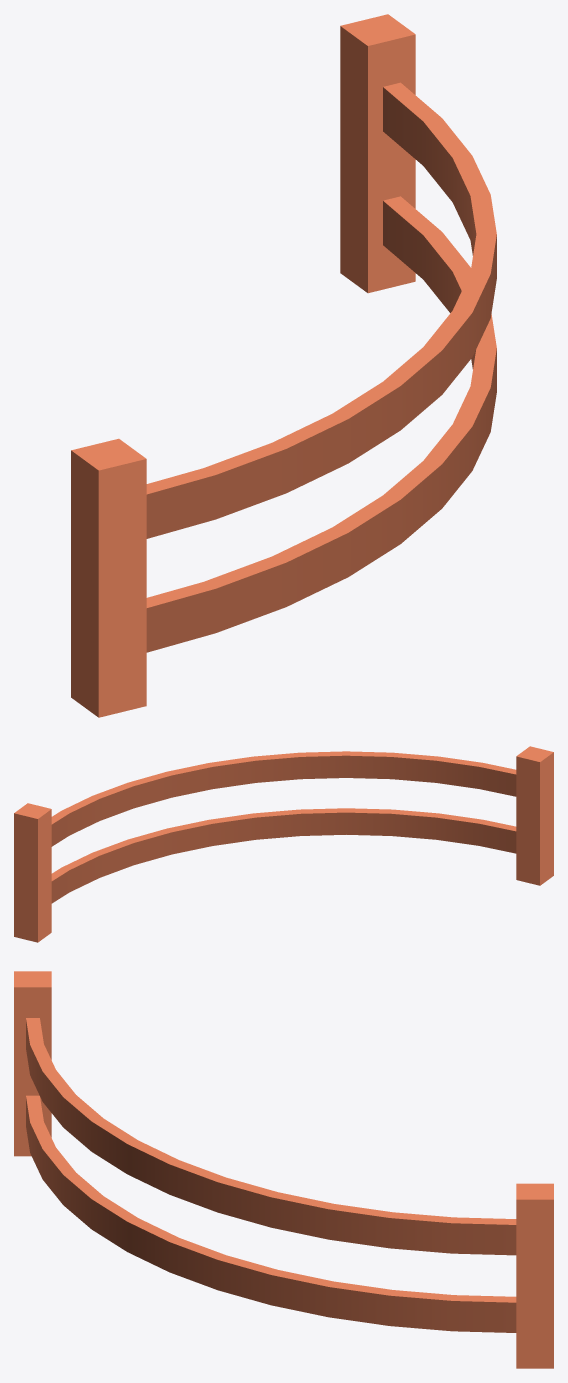
The model's file is fence_bend.dae.
3 views of the same model, one above another, from view 1: azimuth 30°, elevation 25°; view 2: azimuth 150°, elevation 25°; view 3: azimuth 270°, elevation 25° (orthographic). The views are drawn at different scales.
Parts seen in each view (by area): view 1: fence_bend; view 2: fence_bend; view 3: fence_bend.
Boxes of the visible parts, <box> form: fence_bend: <box>71,14,496,717</box>; fence_bend: <box>14,746,553,942</box>; fence_bend: <box>14,971,553,1368</box>.
Bounding box in the file's own units: 1 × 0.345 × 1.
